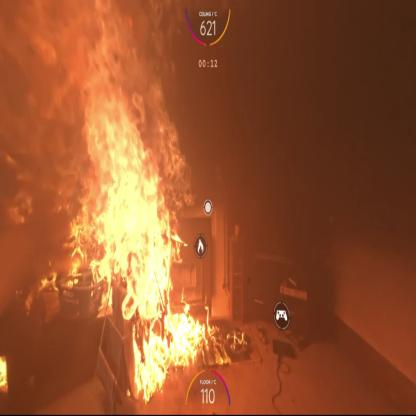fire: (58, 67, 222, 395)
smoke: (0, 3, 202, 293)
